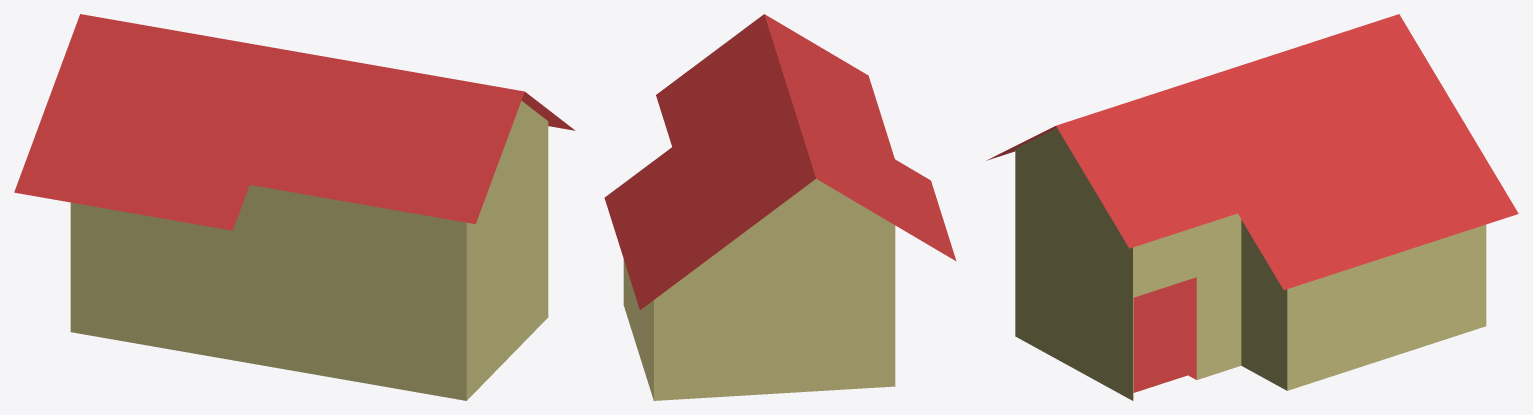
The picture shows the model from 3 angles, left to right: view 1: azimuth 30°, elevation 25°; view 2: azimuth 150°, elevation 25°; view 3: azimuth 270°, elevation 25°; orthographic projection. The views are drawn at different scales.
Bounding box in the file's own units: 25.45 × 28.09 × 14.3.
